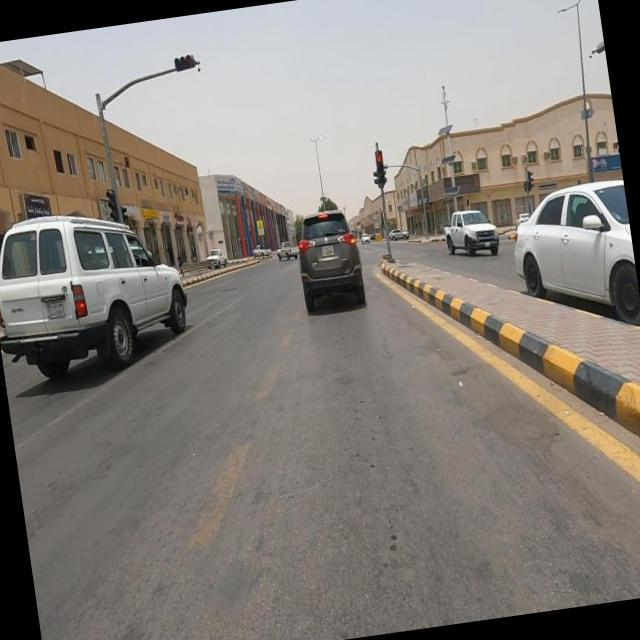debris: (424, 139, 514, 237), (411, 155, 464, 225)
